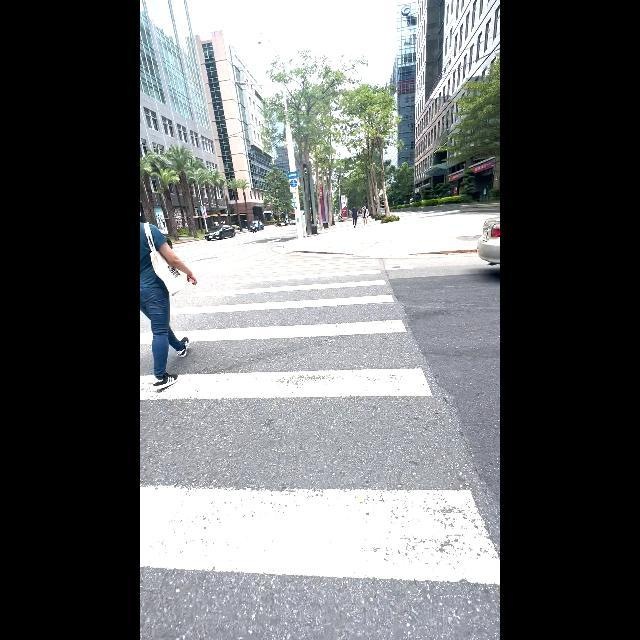sidewalk: (140, 262, 498, 588)
